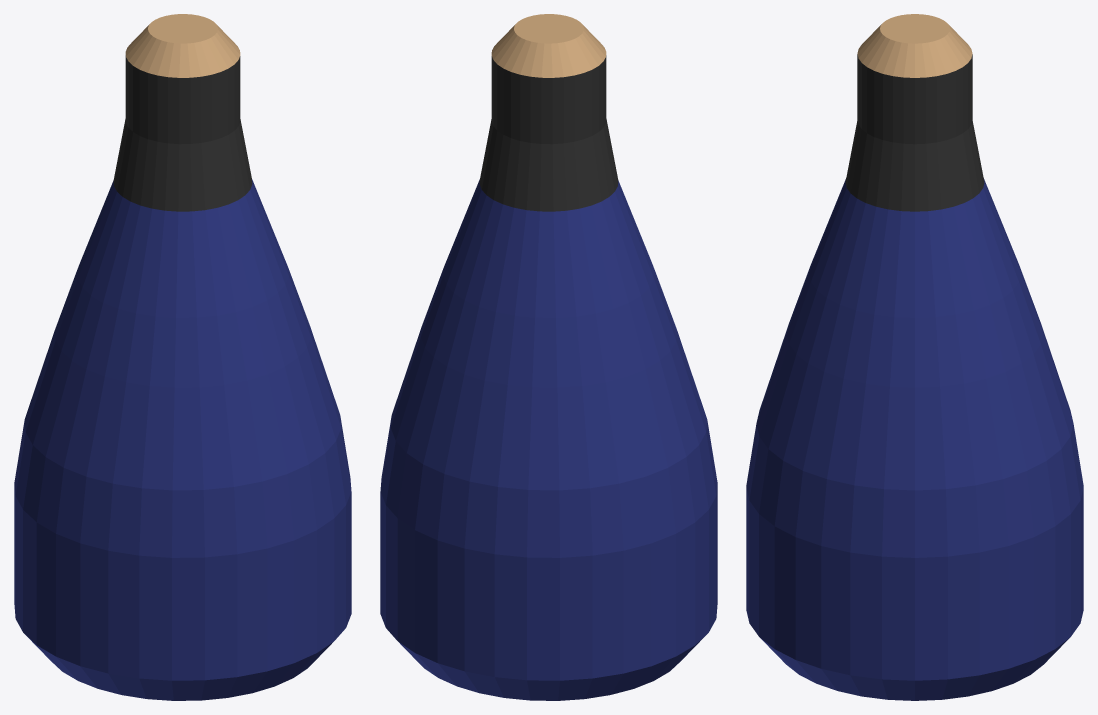
Rendered from WineBottle2WIP.fbx.
3 renders of one model, left to right at view 1: azimuth 30°, elevation 25°; view 2: azimuth 150°, elevation 25°; view 3: azimuth 270°, elevation 25°, orthographic.
Parts seen in each view (by area): view 1: Cylinder; view 2: Cylinder; view 3: Cylinder.
Part boxes in pixels (left/top/right/bottom): Cylinder: left=14, top=14, right=351, bottom=700; Cylinder: left=380, top=14, right=717, bottom=700; Cylinder: left=746, top=14, right=1083, bottom=700.
Size of the model in its own units: 28.09 by 56.29 by 28.09.
